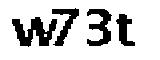3: (85, 8, 111, 47)
7: (54, 4, 81, 50)
t: (115, 10, 139, 48)
w: (7, 17, 56, 49)
